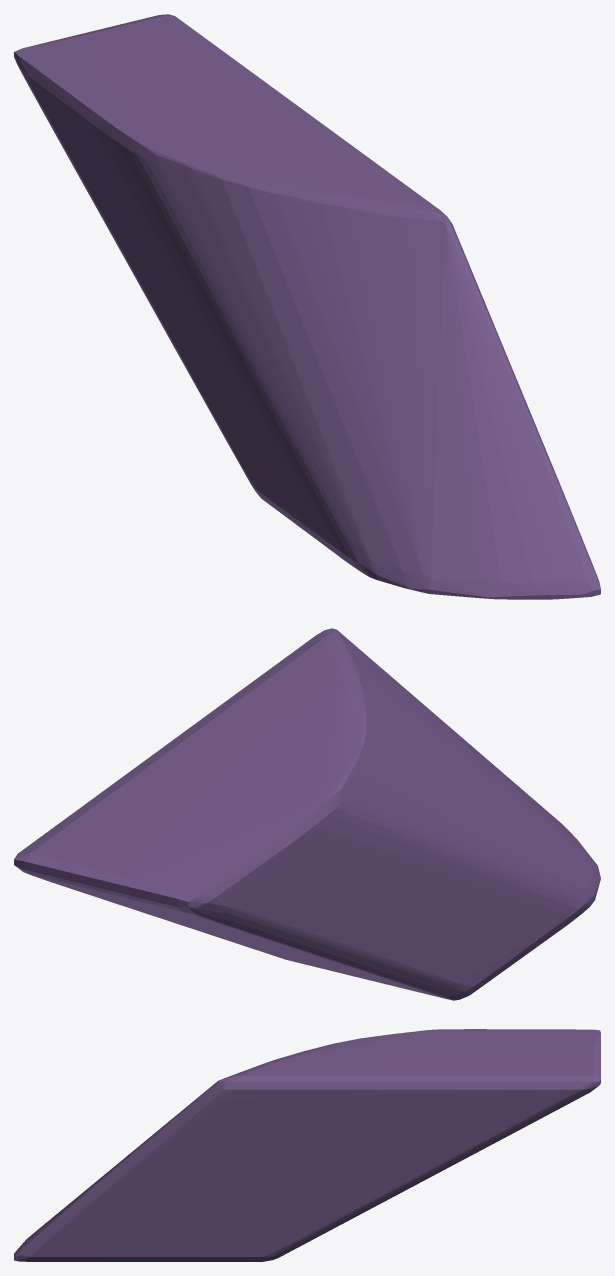
The model's file is left-toe-roll-0_part_1.obj.
3 renders of one model, top to bottom at view 1: azimuth 30°, elevation 25°; view 2: azimuth 150°, elevation 25°; view 3: azimuth 270°, elevation 25°, orthographic. The views are drawn at different scales.
Bounding box in the file's own units: 0.0225 × 0.0347 × 0.0999.
